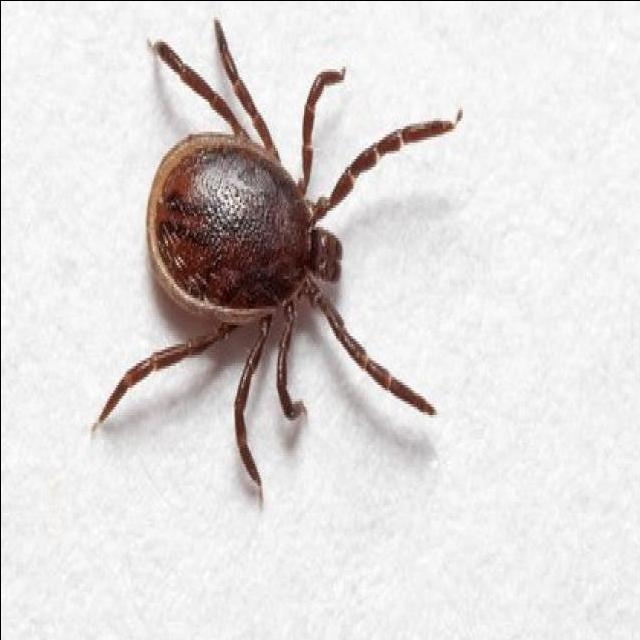Ixodes Ricinus-M: (96, 16, 463, 498)
